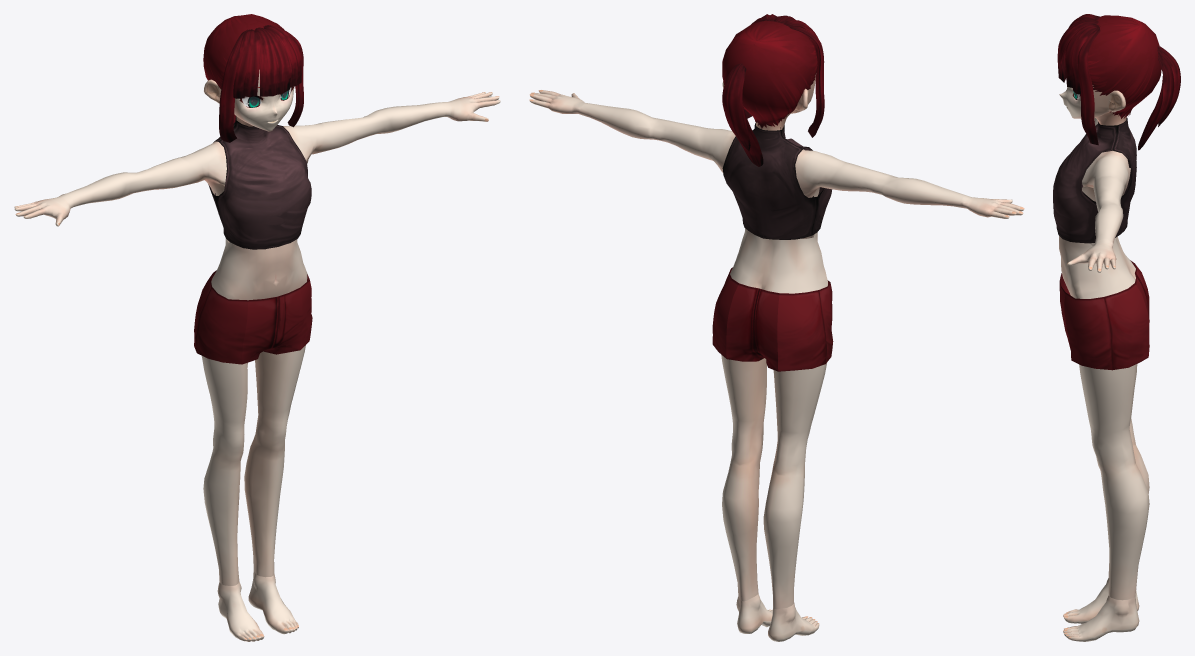
The model's file is Player.fbx.
3 views of the same model, side by side, from view 1: azimuth 30°, elevation 25°; view 2: azimuth 150°, elevation 25°; view 3: azimuth 270°, elevation 25° (orthographic).
Visible parts, largest first — view 1: MDL_Player:MDL_BodyGRP_Player, MDL_Player:GRP_PlayerMDL_Shirt, MDL_Player:GRP_PlayerMDL_Pants, MDL_Player:GRP_PlayerMDL_Hair, MDL_Player:GRP_PlayerMDL_Head, MDL_Player:GRP_PlayerGRP_FaceMDL_Face; view 2: MDL_Player:MDL_BodyGRP_Player, MDL_Player:GRP_PlayerMDL_Pants, MDL_Player:GRP_PlayerMDL_Shirt, MDL_Player:GRP_PlayerMDL_Head, MDL_Player:GRP_PlayerMDL_Hair; view 3: MDL_Player:MDL_BodyGRP_Player, MDL_Player:GRP_PlayerMDL_Pants, MDL_Player:GRP_PlayerMDL_Head, MDL_Player:GRP_PlayerMDL_Shirt, MDL_Player:GRP_PlayerMDL_Hair, MDL_Player:GRP_PlayerGRP_FaceMDL_Face.
Part boxes in pixels (x1,y1,x2,y2): MDL_Player:MDL_BodyGRP_Player: (14,92,500,641); MDL_Player:GRP_PlayerMDL_Shirt: (208,116,311,249); MDL_Player:GRP_PlayerMDL_Pants: (194,270,312,364); MDL_Player:GRP_PlayerMDL_Hair: (219,25,303,142); MDL_Player:GRP_PlayerMDL_Head: (203,14,284,89); MDL_Player:GRP_PlayerGRP_FaceMDL_Face: (204,69,294,131); MDL_Player:MDL_BodyGRP_Player: (529,90,1024,641); MDL_Player:GRP_PlayerMDL_Pants: (712,267,833,371); MDL_Player:GRP_PlayerMDL_Shirt: (722,123,832,239); MDL_Player:GRP_PlayerMDL_Head: (722,20,817,128); MDL_Player:GRP_PlayerMDL_Hair: (722,14,824,166); MDL_Player:MDL_BodyGRP_Player: (1059,111,1149,641); MDL_Player:GRP_PlayerMDL_Pants: (1059,260,1149,370); MDL_Player:GRP_PlayerMDL_Head: (1087,15,1161,118); MDL_Player:GRP_PlayerMDL_Shirt: (1053,117,1136,243); MDL_Player:GRP_PlayerMDL_Hair: (1057,14,1180,150); MDL_Player:GRP_PlayerGRP_FaceMDL_Face: (1059,85,1125,118).
Size of the model in its own units: 111 by 132 by 25.11.
Materials: 6 (6 with a texture image).
